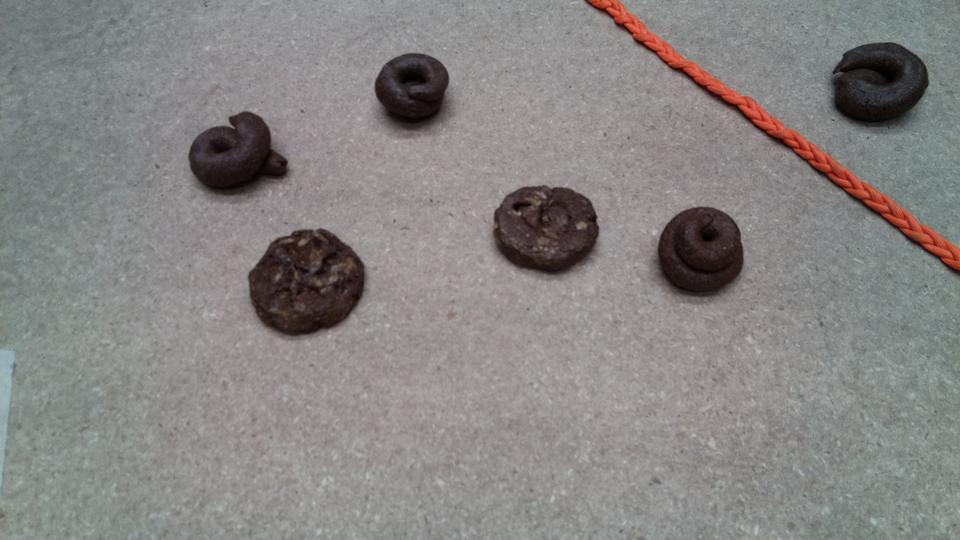poop: (252, 230, 363, 335), (500, 186, 603, 273), (662, 207, 746, 295), (835, 43, 928, 122), (193, 113, 287, 185), (377, 53, 448, 125)
rope: (900, 215, 956, 267), (686, 68, 742, 107), (844, 179, 898, 218), (791, 139, 843, 179), (742, 105, 791, 142), (586, 1, 642, 33), (643, 34, 684, 70)
